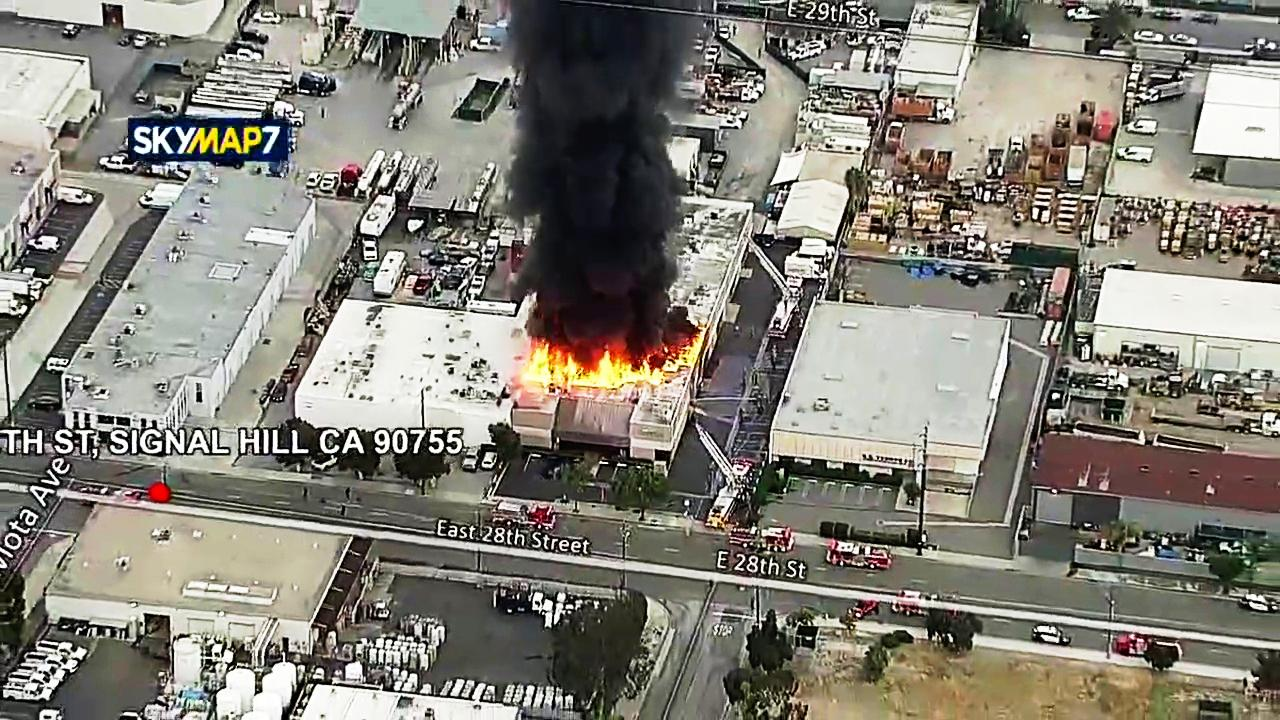fire: (529, 327, 690, 382)
smoke: (523, 0, 667, 335)
